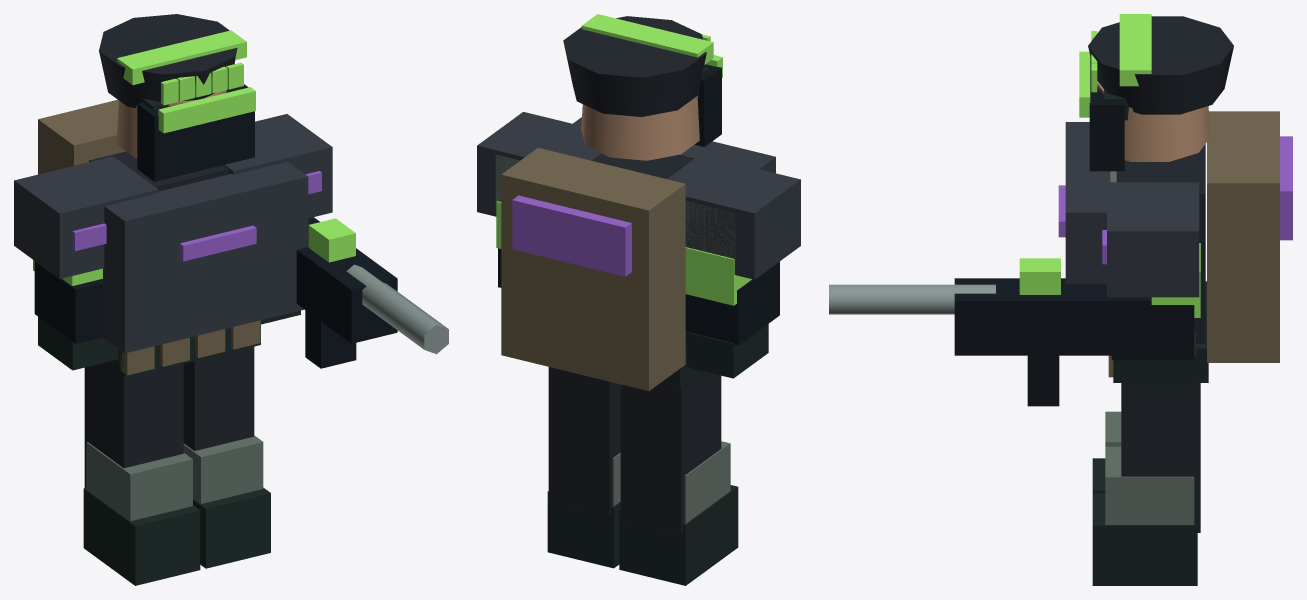
File: sentinel_l05.glb
The picture shows the model from 3 angles, left to right: view 1: azimuth 30°, elevation 25°; view 2: azimuth 150°, elevation 25°; view 3: azimuth 270°, elevation 25°; orthographic projection.
Visible parts, largest first — view 1: tactical_chest_plate, trouser (×2), broad_shoulder_guard (×2), boot (×2), knee_plate (×2), helmet, full_face_mask, heavy_carbine, field_pack, forearm_guard, heavy_barrel, elite_brow_light (+13 smaller); view 2: field_pack, trouser (×2), broad_shoulder_guard (×2), boot (×2), helmet, elite_back_plate, face, forearm_guard, knee_plate (×2), glove, rank_stripe, elite_brow_light (+5 smaller); view 3: field_pack, heavy_carbine, broad_shoulder_guard, helmet, trouser, boot, tactical_chest_plate, knee_plate (×2), heavy_barrel, face, body, full_face_mask (+9 smaller).
Part boxes in pixels (bbox=[...]): tactical_chest_plate: bbox=[103, 161, 308, 353]; trouser (×2): bbox=[84, 346, 254, 487]; broad_shoulder_guard (×2): bbox=[14, 114, 332, 278]; boot (×2): bbox=[83, 487, 270, 585]; knee_plate (×2): bbox=[86, 435, 263, 521]; helmet: bbox=[99, 14, 237, 108]; full_face_mask: bbox=[137, 84, 254, 181]; heavy_carbine: bbox=[296, 217, 397, 343]; field_pack: bbox=[38, 99, 125, 174]; forearm_guard: bbox=[34, 261, 102, 343]; heavy_barrel: bbox=[346, 264, 448, 354]; elite_brow_light: bbox=[117, 30, 246, 84]; field_pack: bbox=[501, 148, 685, 391]; trouser (×2): bbox=[548, 367, 721, 534]; broad_shoulder_guard (×2): bbox=[477, 112, 800, 279]; boot (×2): bbox=[547, 485, 738, 585]; helmet: bbox=[563, 16, 706, 116]; elite_back_plate: bbox=[512, 195, 631, 276]; face: bbox=[581, 96, 699, 160]; forearm_guard: bbox=[685, 261, 779, 345]; knee_plate (×2): bbox=[612, 441, 730, 523]; glove: bbox=[685, 324, 768, 378]; rank_stripe: bbox=[685, 247, 751, 305]; elite_brow_light: bbox=[581, 14, 713, 64]; field_pack: bbox=[1207, 111, 1279, 362]; heavy_carbine: bbox=[954, 278, 1151, 355]; broad_shoulder_guard: bbox=[1107, 182, 1199, 297]; helmet: bbox=[1088, 16, 1233, 114]; trouser: bbox=[1121, 383, 1200, 532]; boot: bbox=[1092, 493, 1197, 585]; tactical_chest_plate: bbox=[1065, 122, 1110, 283]; knee_plate (×2): bbox=[1105, 411, 1194, 524]; heavy_barrel: bbox=[829, 284, 995, 314]; face: bbox=[1097, 81, 1210, 161]; body: bbox=[1116, 144, 1205, 343]; full_face_mask: bbox=[1089, 57, 1124, 171].
Bounding box in the file's own units: 1.01 × 1.77 × 1.46.
